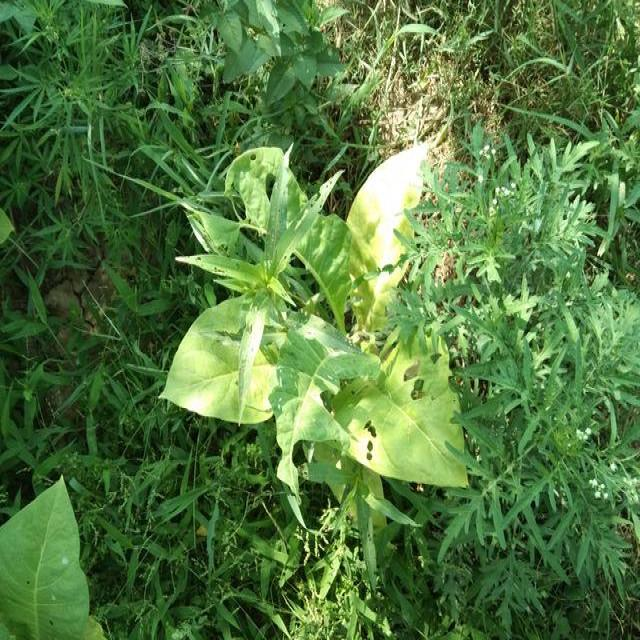crop: (156, 131, 467, 486), (7, 483, 112, 640)
